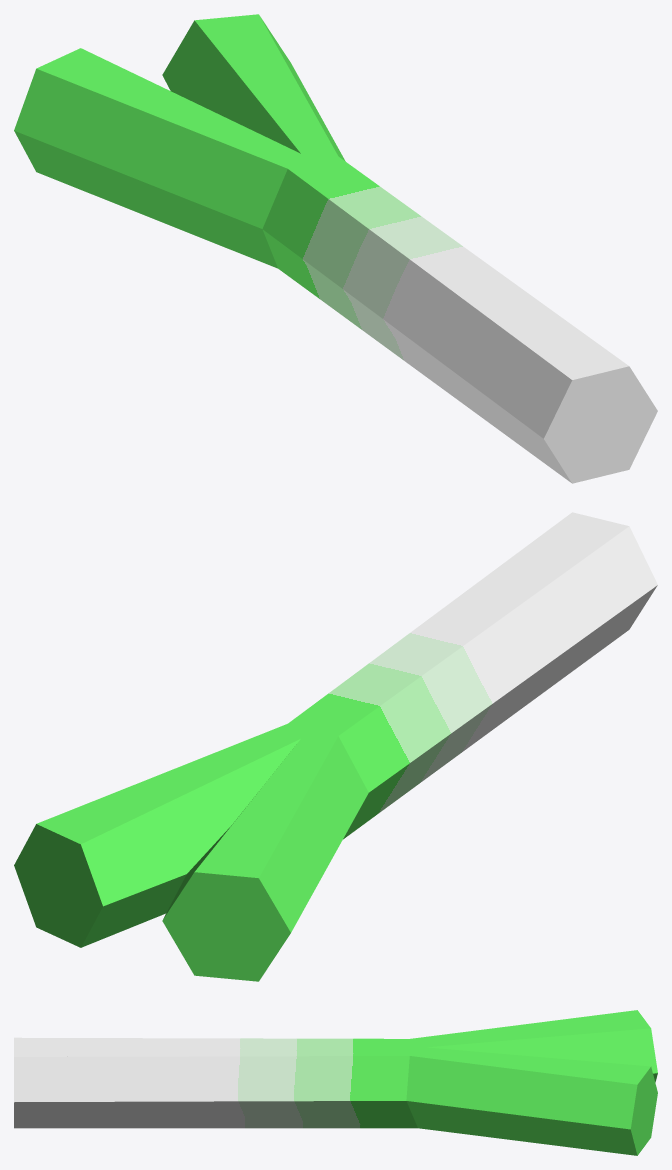
The model's file is aipo.gltf.
The picture shows the model from 3 angles, top to bottom: view 1: azimuth 30°, elevation 25°; view 2: azimuth 150°, elevation 25°; view 3: azimuth 270°, elevation 25°; orthographic projection. The views are drawn at different scales.
Parts seen in each view (by area): view 1: cylinder; view 2: cylinder; view 3: cylinder.
Boxes of the visible parts, x1,y1,x2,y2 form: cylinder: (14, 14, 657, 483); cylinder: (14, 512, 657, 981); cylinder: (14, 1010, 657, 1155).
Bounding box in the file's own units: 0.175 × 0.0625 × 0.5123.
2 materials, 2 textured.
